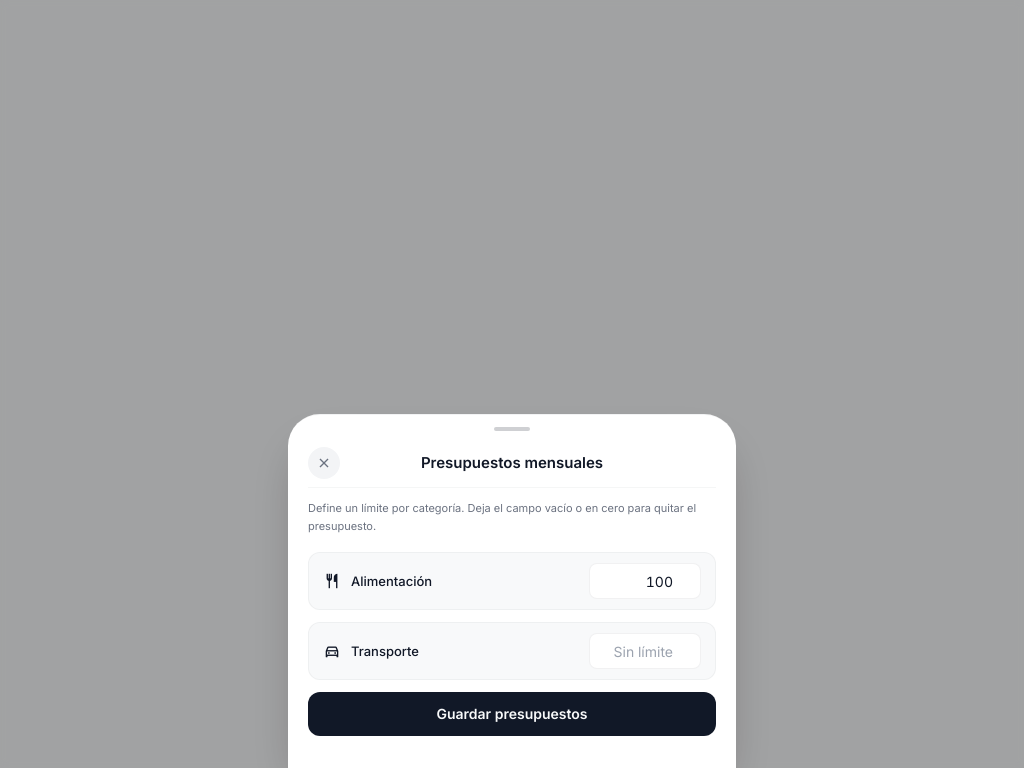
it: BudgetModal › muestra el error del servicio
The image size is (1024, 768).
Type "80" into the number field named "Presupuesto de Transporte" at x=645, y=651, box [589,633,701,669]
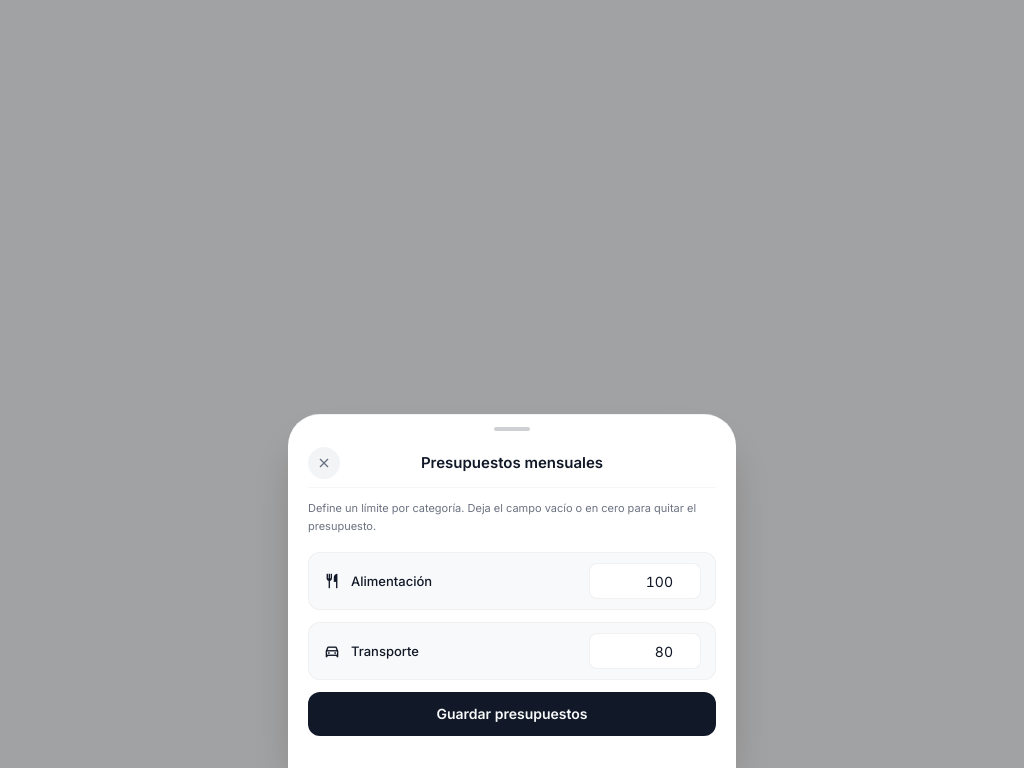
Click the button "Guardar presupuestos" at x=512, y=714, box [308,692,716,736]
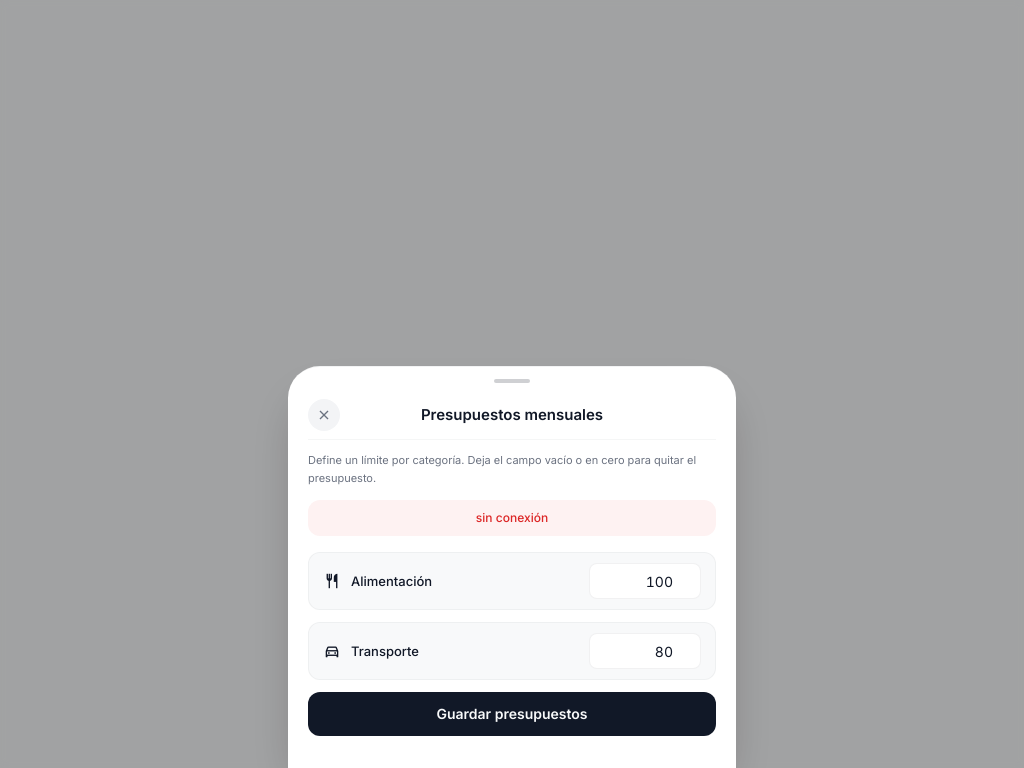
expect the text "sin conexión" is shown: met, box [308,500,716,536]
